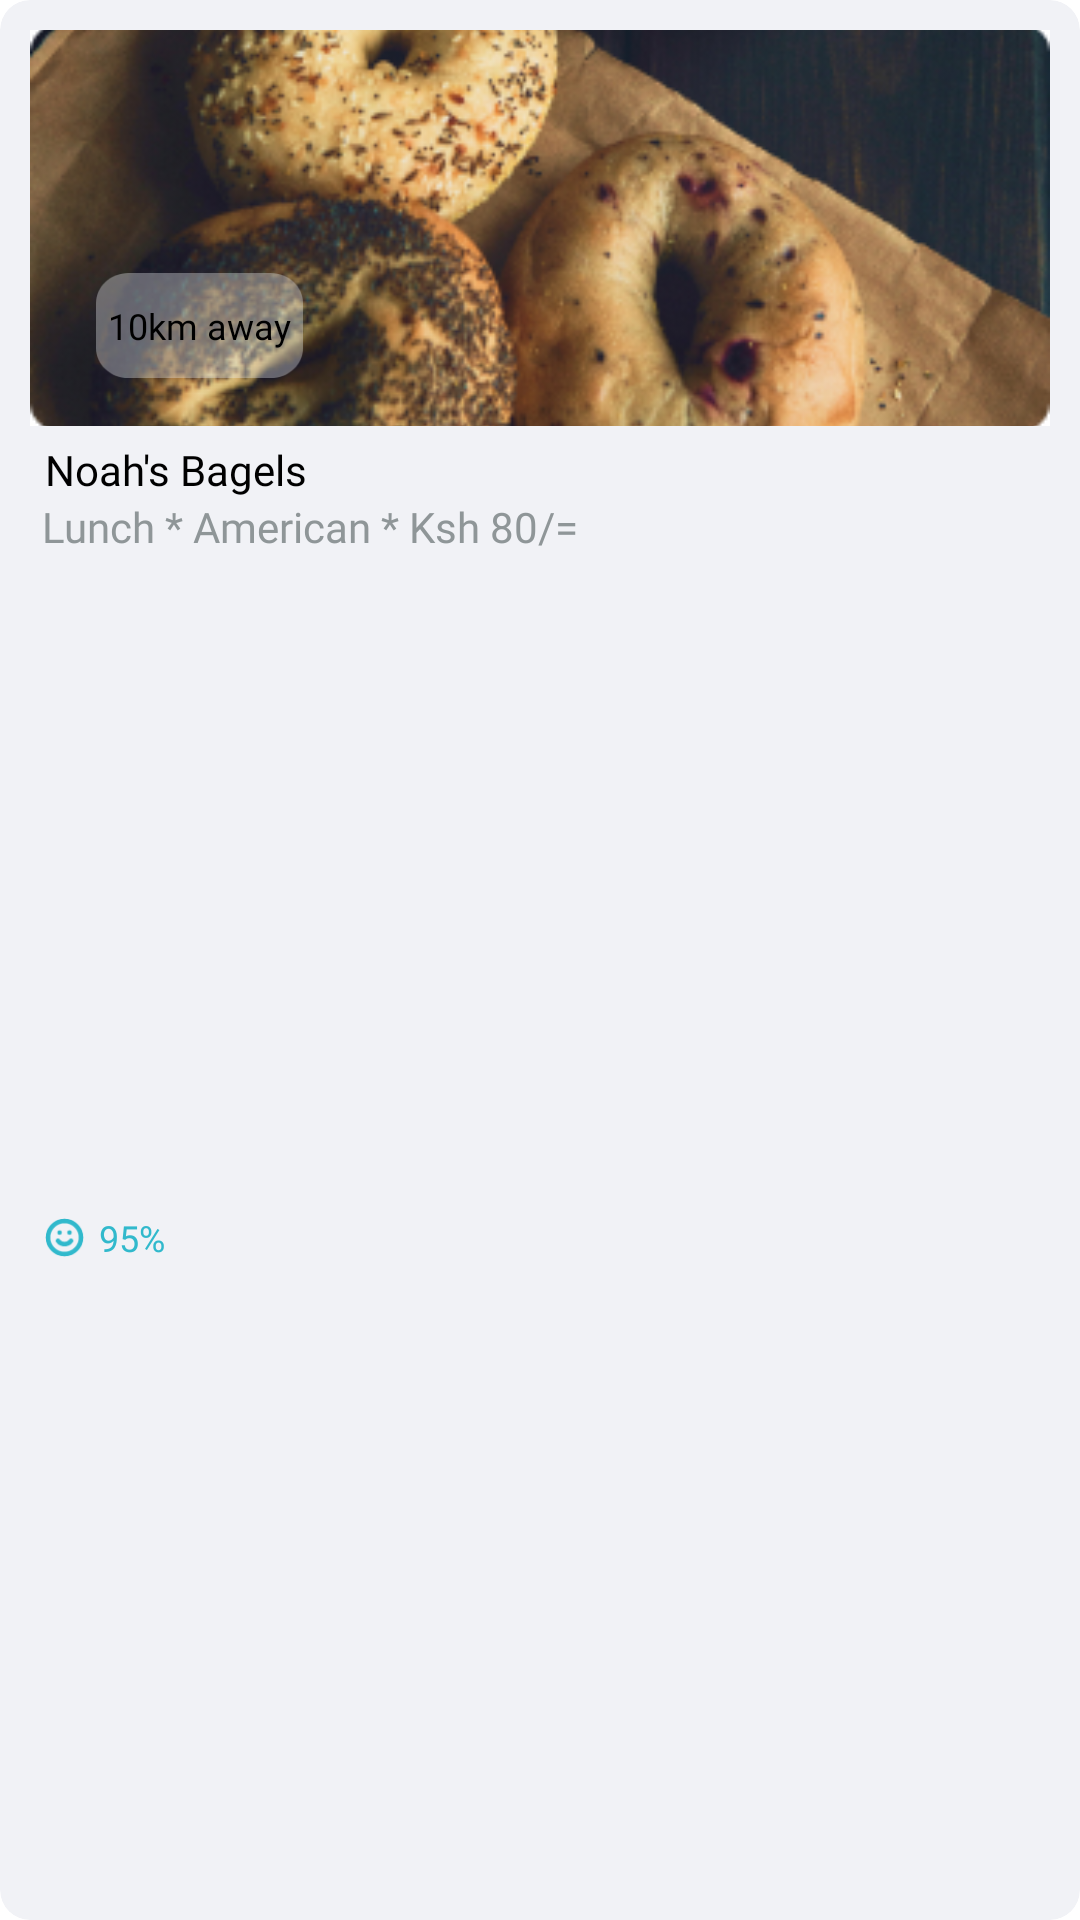

Where to tap for icons on this 1080×1920 app screen, as (x,y):
smiley: (64,1237)
